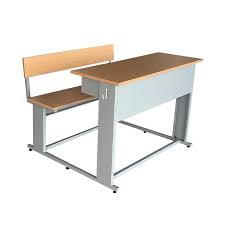Bench: (22, 58, 190, 168)
